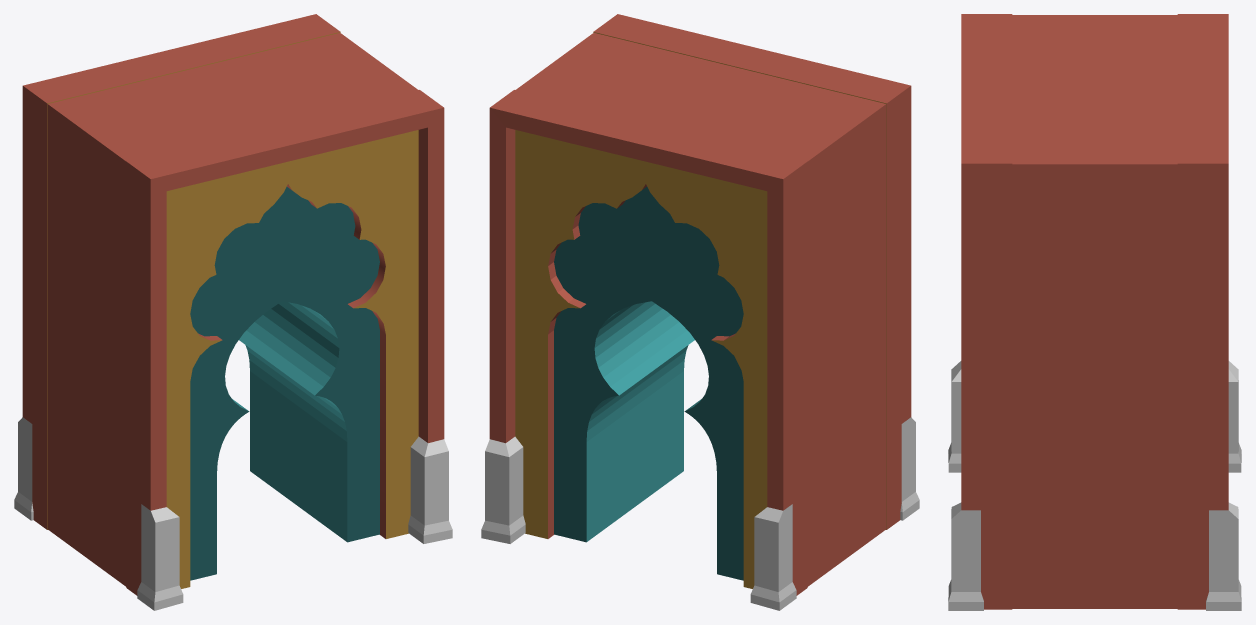
File: Gate-Atl.fbx
3 views of the same model, side by side, from view 1: azimuth 30°, elevation 25°; view 2: azimuth 150°, elevation 25°; view 3: azimuth 270°, elevation 25° (orthographic). The views are drawn at different scales.
Parts seen in each view (by area): view 1: Gate, Cube.045, Cube.001, Cube.002, Cube.003; view 2: Gate, Cube.002, Cube.003, Cube.045, Cube.001; view 3: Gate, Cube.002, Cube.045, Cube.001, Cube.003.
Part boxes in pixels (bbox=[...]): Gate: bbox=[47, 33, 417, 586]; Cube.045: bbox=[126, 90, 434, 595]; Cube.001: bbox=[137, 100, 452, 610]; Cube.002: bbox=[32, 21, 340, 529]; Cube.003: bbox=[14, 14, 325, 520]; Gate: bbox=[516, 33, 886, 586]; Cube.002: bbox=[499, 90, 807, 595]; Cube.003: bbox=[481, 100, 796, 610]; Cube.045: bbox=[593, 21, 901, 529]; Cube.001: bbox=[608, 14, 919, 520]; Gate: bbox=[1012, 15, 1177, 608]; Cube.002: bbox=[1177, 14, 1208, 609]; Cube.045: bbox=[981, 14, 1012, 609]; Cube.001: bbox=[948, 14, 983, 610]; Cube.003: bbox=[1206, 14, 1241, 610].
Bounding box in the file's own units: 366 × 500 × 298.
